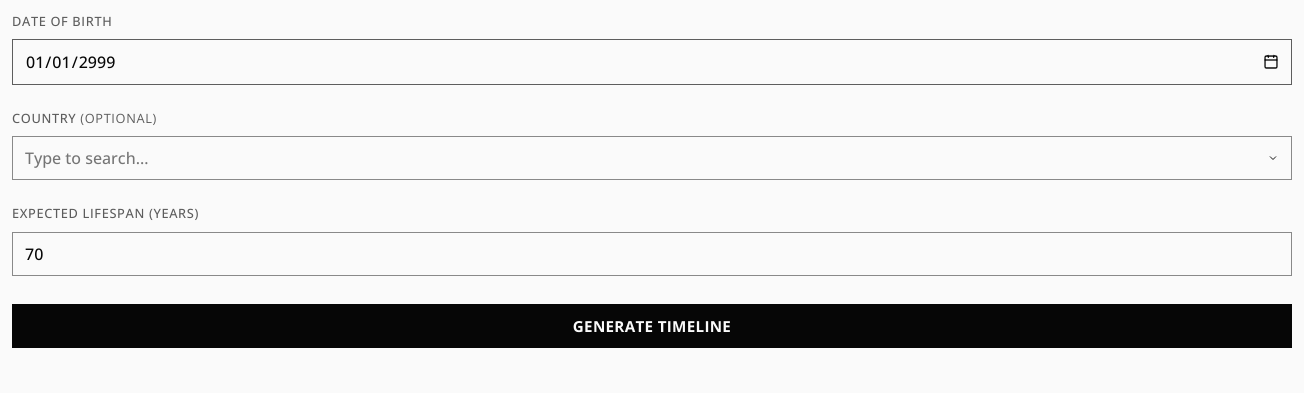
Test: timeline form › rejects a future date of birth
Click the button "Generate Timeline" at (652,326), box [12,304,1292,348]
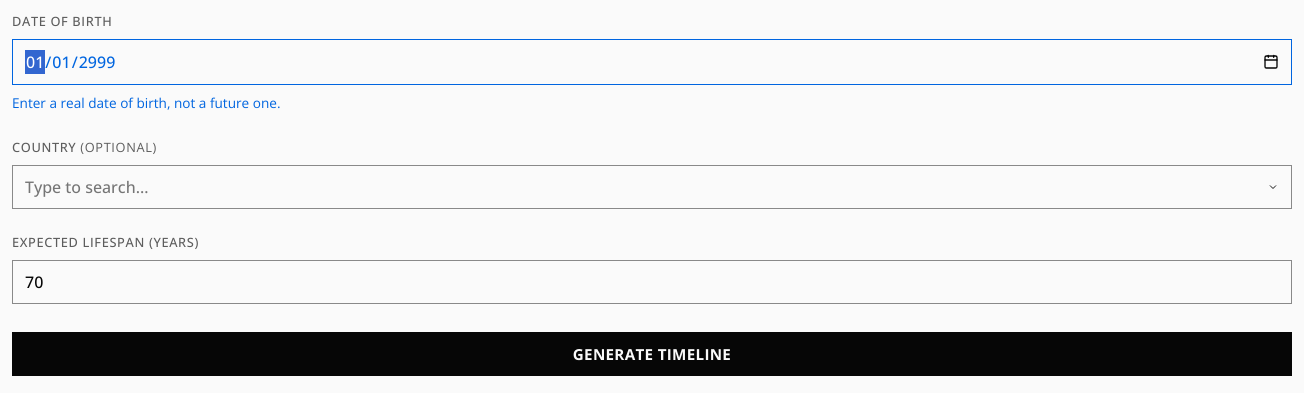
Expected: the text with id "dob-error" shows "not a future one", [12,93,280,112]
